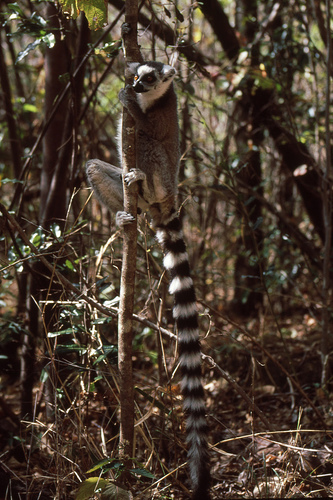cat: (82, 60, 209, 498)
